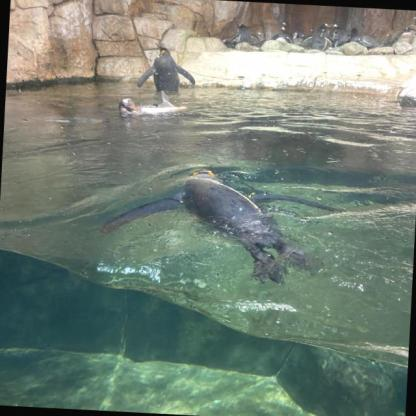penguin: (101, 159, 347, 286), (136, 42, 197, 96), (118, 89, 188, 120), (300, 22, 334, 52), (382, 25, 415, 55), (227, 22, 261, 48), (326, 22, 351, 50), (346, 33, 380, 48), (272, 24, 294, 45), (412, 16, 415, 52)
